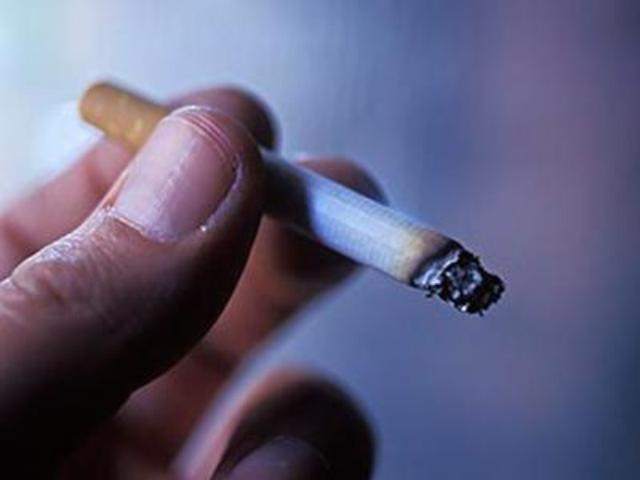Smoking: (78, 79, 506, 316)
